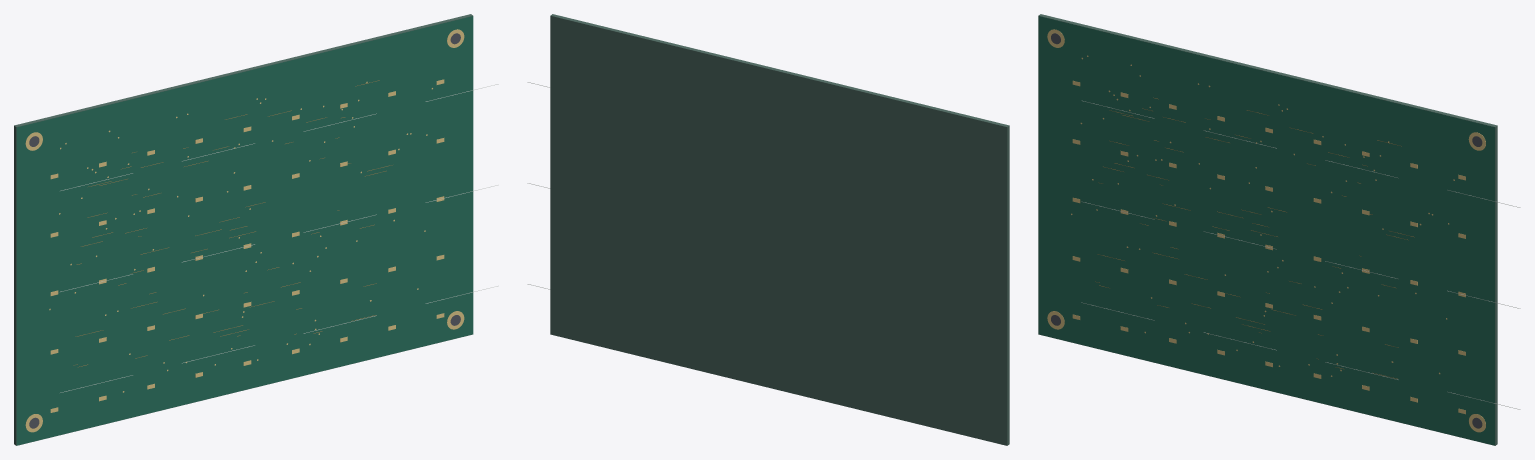
File: 57_L98_PIS6_Empty_FourLayer_PCB.glb
3 views of the same model, side by side, from view 1: azimuth 30°, elevation 25°; view 2: azimuth 150°, elevation 25°; view 3: azimuth 330°, elevation 25° (orthographic).
Parts seen in each view (by area): view 1: L1_Soldermask_Surface, Four_Layer_FR4_Substrate; view 2: Four_Layer_FR4_Substrate; view 3: L1_Soldermask_Surface, Four_Layer_FR4_Substrate.
Part boxes in pixels (x1=…): L1_Soldermask_Surface: x1=16, y1=16, x2=473, y2=445; Four_Layer_FR4_Substrate: x1=14, y1=14, x2=472, y2=445; Four_Layer_FR4_Substrate: x1=550, y1=14, x2=1009, y2=445; L1_Soldermask_Surface: x1=1038, y1=16, x2=1494, y2=445; Four_Layer_FR4_Substrate: x1=1038, y1=14, x2=1497, y2=445.
Bounding box in the file's own units: 0.19 × 0.12 × 0.00175.
